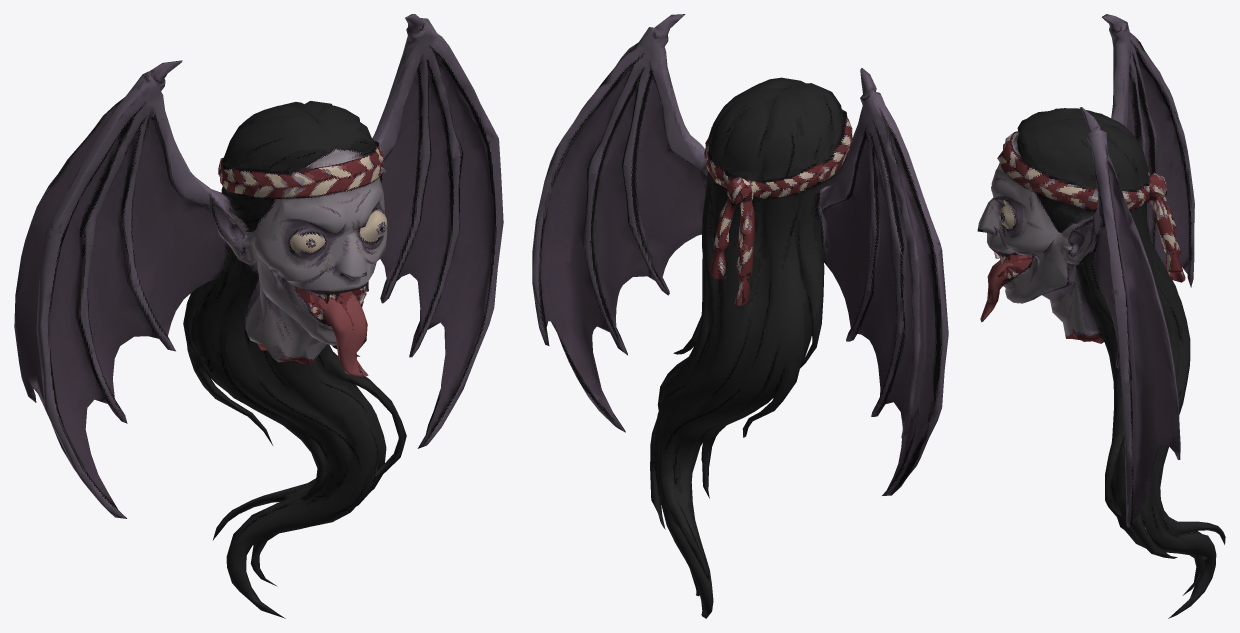
The model's file is chonchon.glb.
3 renders of one model, left to right at view 1: azimuth 30°, elevation 25°; view 2: azimuth 150°, elevation 25°; view 3: azimuth 270°, elevation 25°, orthographic. The views are drawn at different scales.
Visible parts, largest first — view 1: tripo_node_cdd76e13-c04c-4cc0-a6fb-878d3b2a0085; view 2: tripo_node_cdd76e13-c04c-4cc0-a6fb-878d3b2a0085; view 3: tripo_node_cdd76e13-c04c-4cc0-a6fb-878d3b2a0085.
Boxes of the visible parts, left/top/right/bottom form: tripo_node_cdd76e13-c04c-4cc0-a6fb-878d3b2a0085: left=14, top=14, right=503, bottom=618; tripo_node_cdd76e13-c04c-4cc0-a6fb-878d3b2a0085: left=532, top=14, right=948, bottom=618; tripo_node_cdd76e13-c04c-4cc0-a6fb-878d3b2a0085: left=977, top=14, right=1225, bottom=618.
Size of the model in its own units: 0.7632 by 1 by 0.4151.
1 material, 1 textured.
